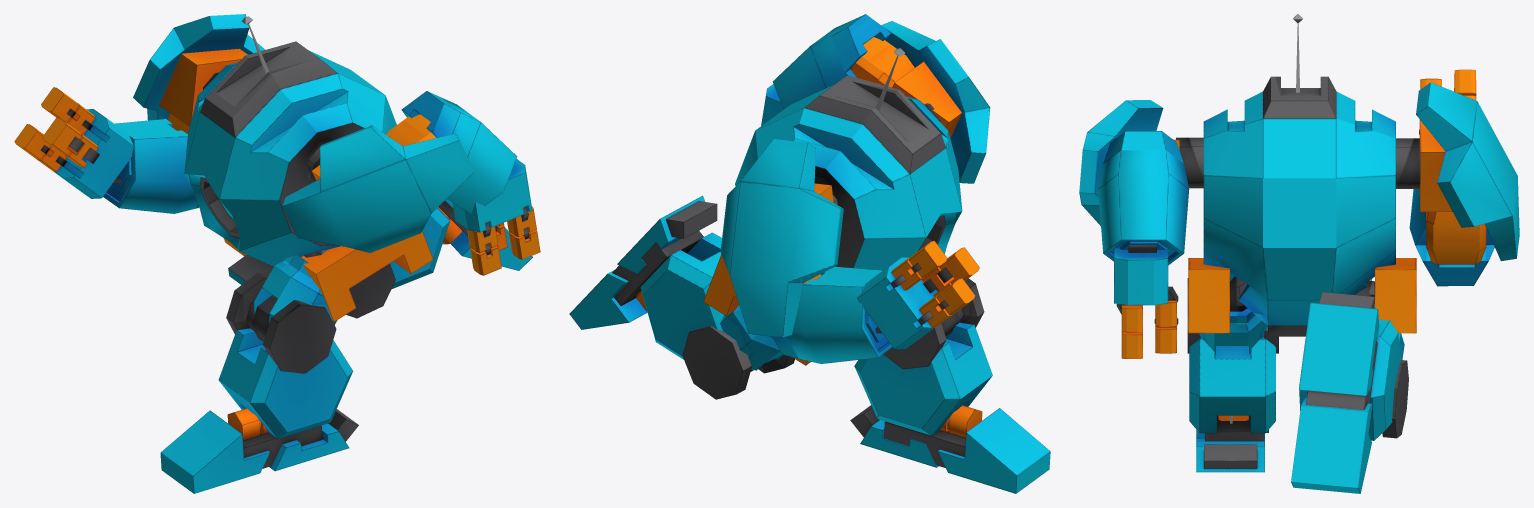
Rendered from Walk21.obj.
The picture shows the model from 3 angles, left to right: view 1: azimuth 30°, elevation 25°; view 2: azimuth 150°, elevation 25°; view 3: azimuth 270°, elevation 25°; orthographic projection. The views are drawn at different scales.
Visible parts, largest first — view 1: Plane001, Object006, Object013, Object014, Object002, Object004, Object003, Object007, Object008, Object010, Object012, Object011; view 2: Plane001, Object002, Object013, Object010, Object014, Object006, Object004, Object003, Object011, Object007, Object009; view 3: Plane001, Object002, Object011, Object007, Object013, Object008, Object010, Object006, Object014, Object003, Object012, Object001 (+2 smaller).
Part boxes in pixels (<box>): Plane001: <box>184,41,433,321</box>; Object006: <box>282,114,474,252</box>; Object013: <box>218,273,352,438</box>; Object014: <box>160,408,358,493</box>; Object002: <box>133,14,265,134</box>; Object004: <box>14,87,133,198</box>; Object003: <box>103,119,199,213</box>; Object007: <box>401,91,517,214</box>; Object008: <box>452,159,540,275</box>; Object010: <box>346,208,449,318</box>; Object012: <box>253,249,337,324</box>; Object011: <box>437,199,532,270</box>; Plane001: <box>703,75,962,365</box>; Object002: <box>720,139,843,337</box>; Object013: <box>854,278,992,435</box>; Object010: <box>640,232,794,399</box>; Object014: <box>850,405,1050,493</box>; Object006: <box>850,21,990,183</box>; Object004: <box>857,241,979,349</box>; Object003: <box>772,266,892,363</box>; Object011: <box>569,195,717,329</box>; Object007: <box>772,14,891,109</box>; Object009: <box>720,305,782,370</box>; Plane001: <box>1188,76,1416,336</box>; Object002: <box>1416,82,1519,264</box>; Object011: <box>1291,292,1379,493</box>; Object007: <box>1098,131,1189,265</box>; Object013: <box>1187,278,1278,433</box>; Object008: <box>1114,245,1178,358</box>; Object010: <box>1299,319,1408,440</box>; Object006: <box>1079,100,1179,225</box>; Object014: <box>1196,415,1268,472</box>; Object003: <box>1409,189,1494,286</box>; Object012: <box>1199,276,1267,354</box>; Object001: <box>1396,138,1420,188</box>.
Size of the model in its own units: 221 by 201 by 182.
